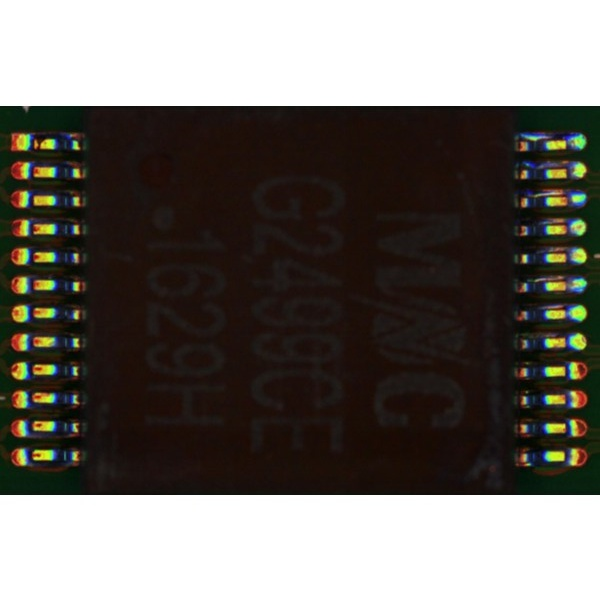Bad_qiaojiao: (529, 274, 567, 280), (531, 190, 567, 196), (538, 217, 567, 223), (538, 303, 566, 308), (538, 246, 566, 251)
